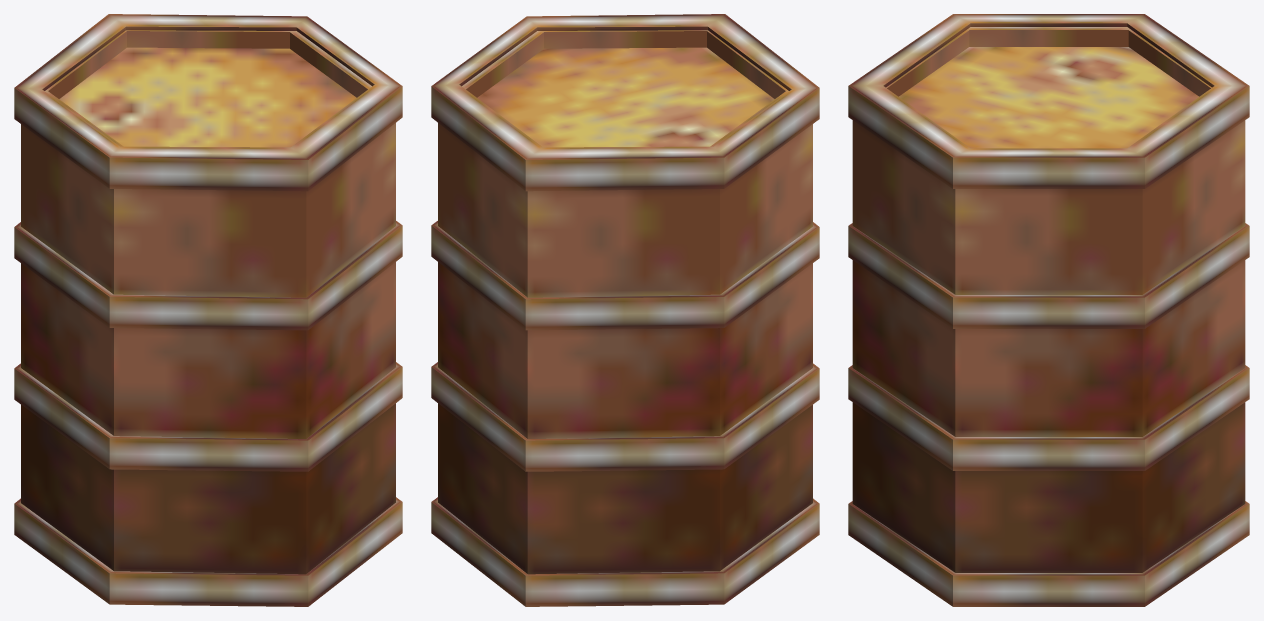
File: Poly_SF_Outside_B_Oil_Drum_01.obj
3 renders of one model, left to right at view 1: azimuth 30°, elevation 25°; view 2: azimuth 150°, elevation 25°; view 3: azimuth 270°, elevation 25°, orthographic.
Parts seen in each view (by area): view 1: Cube.001, Cube.003; view 2: Cube.001, Cube.003; view 3: Cube.001, Cube.003.
Part boxes in pixels (x1,y1,x2,y2): Cube.001: (21,30,395,574); Cube.003: (14,14,402,606); Cube.001: (438,30,812,574); Cube.003: (431,14,819,606); Cube.001: (852,27,1245,572); Cube.003: (848,14,1249,606).
Size of the model in its own units: 0.596 by 0.8688 by 0.7029.
Materials: 1 (1 with a texture image).
